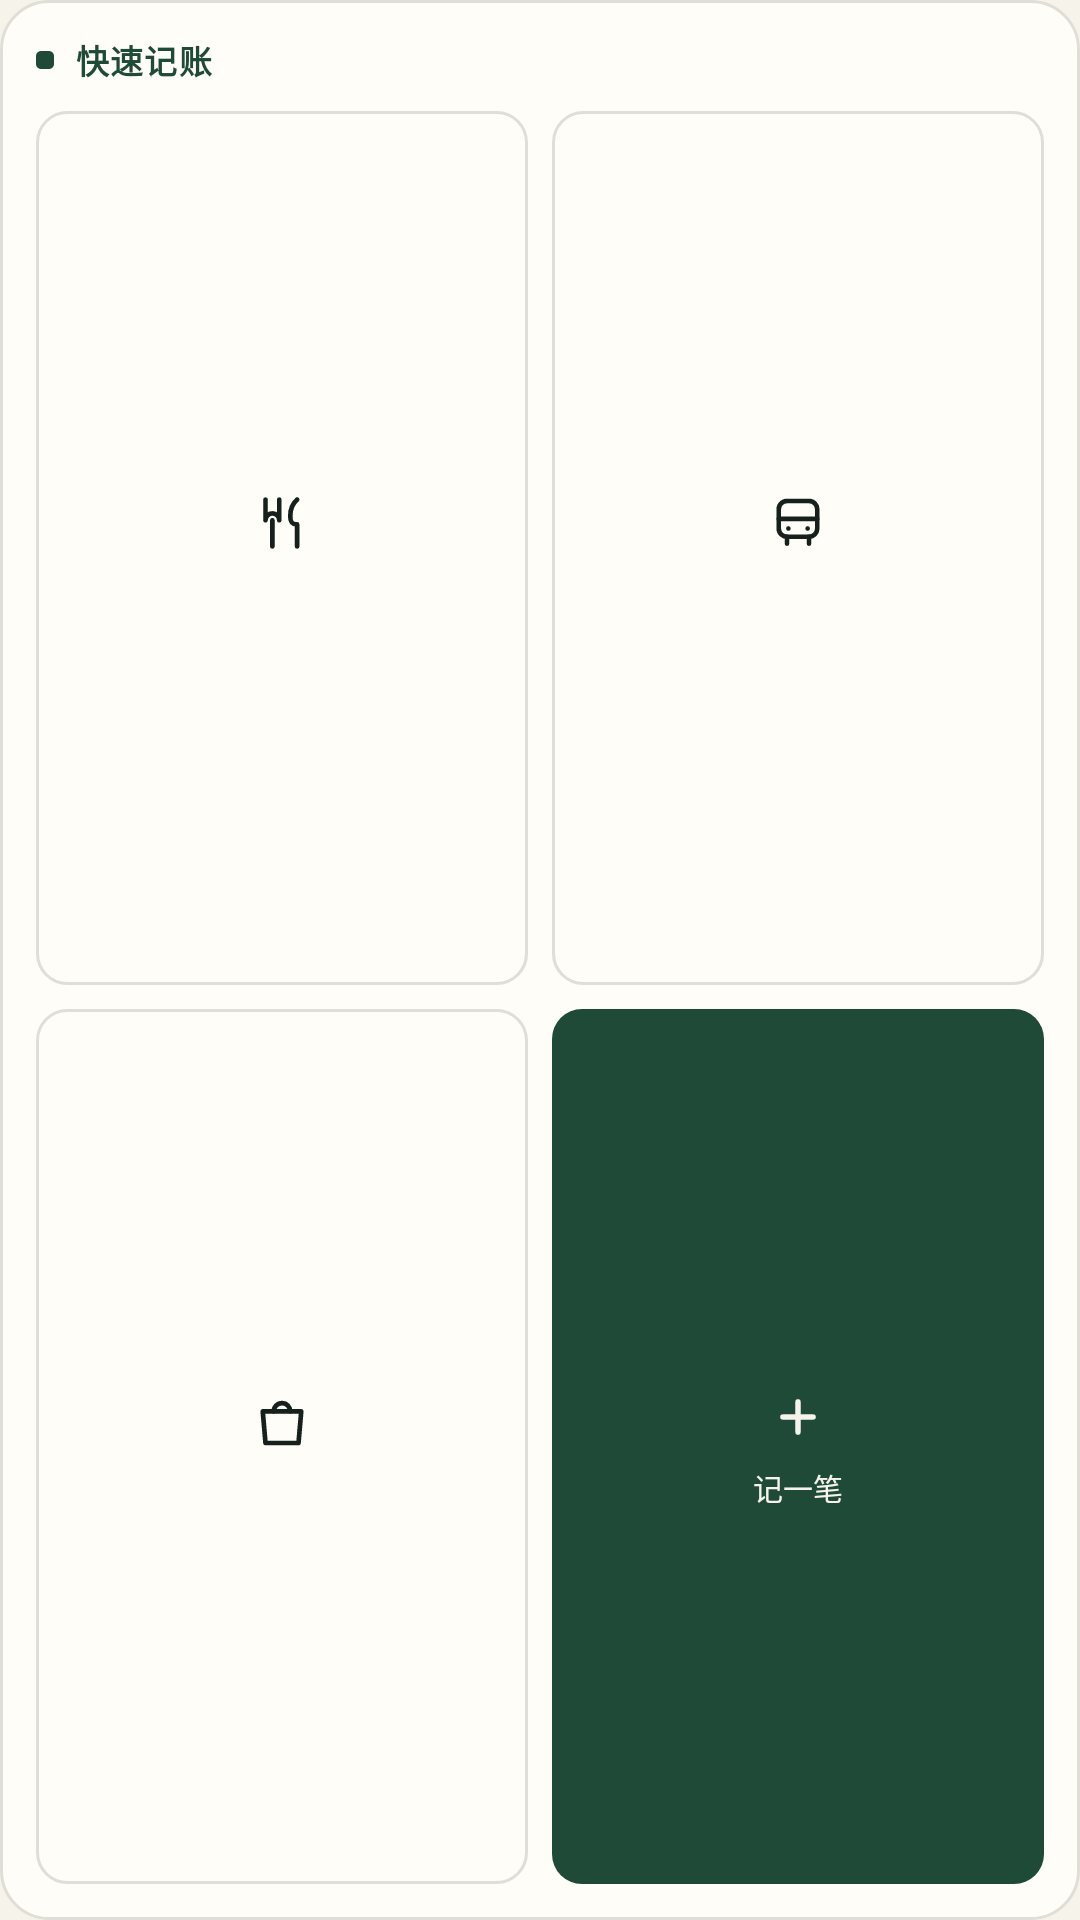

Where icons sit on this 1080x1920 app screen, as box(x1, y1, x2, y2):
bag: box(260, 1400, 304, 1446)
bus: box(776, 498, 820, 546)
food: box(263, 497, 300, 549)
widget plus glyph: box(780, 1399, 816, 1435)
